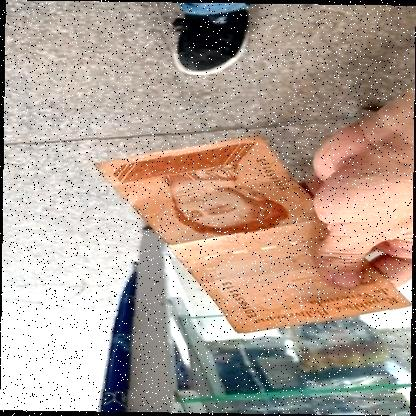twenty-front-vef: (92, 135, 412, 336)
